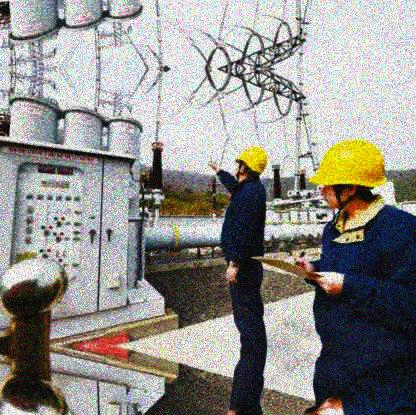helmet: (306, 138, 388, 207), (234, 145, 267, 179)
